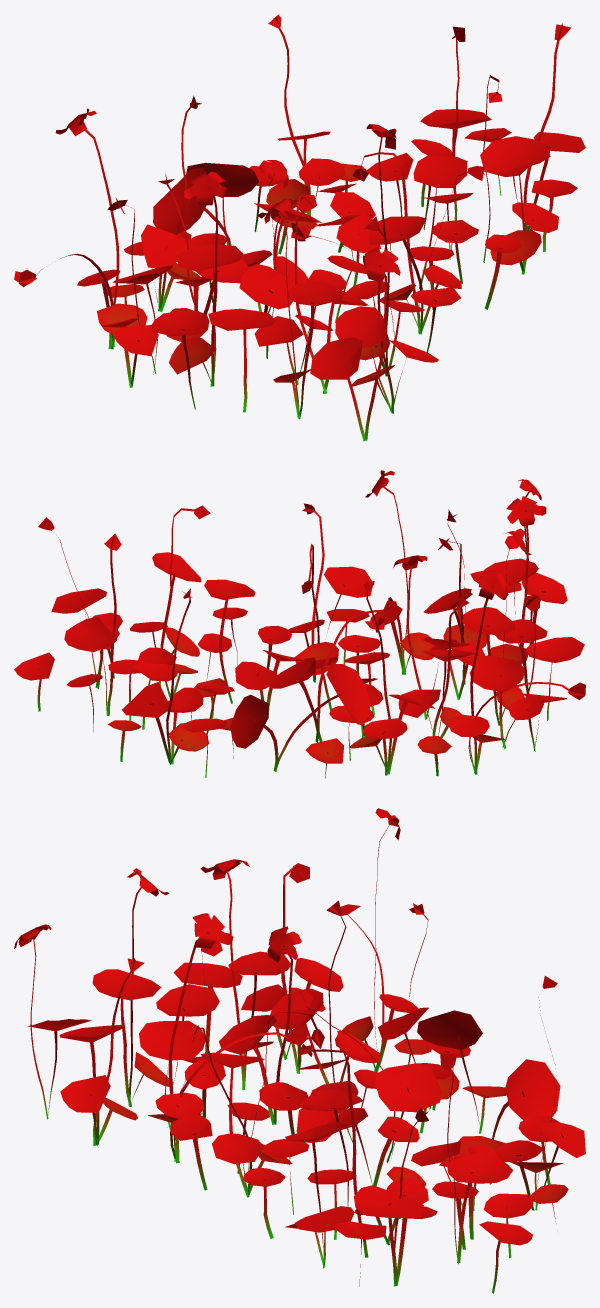
The model's file is Native Violet_LOD3_Var6_ultkcfeja.fbx.
3 renders of one model, top to bottom at view 1: azimuth 30°, elevation 25°; view 2: azimuth 150°, elevation 25°; view 3: azimuth 270°, elevation 25°, orthographic. The views are drawn at different scales.
Parts seen in each view (by area): view 1: _66aj_Var6_LOD3; view 2: _66aj_Var6_LOD3; view 3: _66aj_Var6_LOD3.
Part boxes in pixels (x1,y1,x2,y2): _66aj_Var6_LOD3: [14, 14, 585, 441]; _66aj_Var6_LOD3: [14, 470, 585, 778]; _66aj_Var6_LOD3: [14, 808, 585, 1293].
Bounding box in the file's own units: 61.72 × 24.37 × 49.8.
